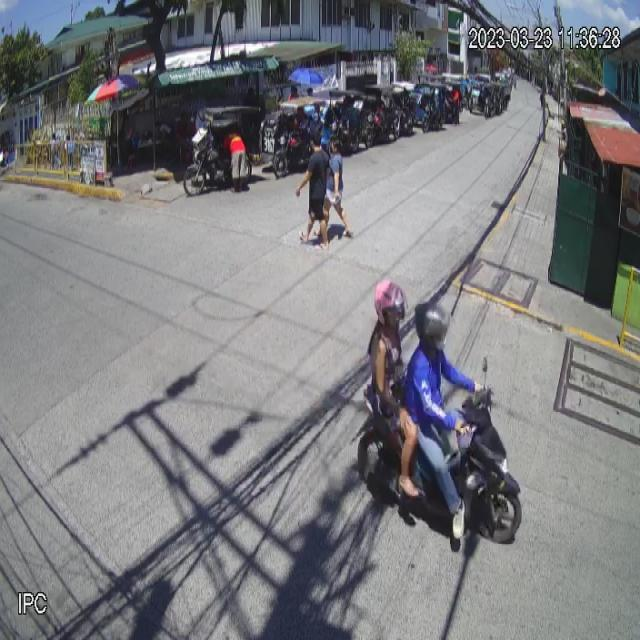Motorcycle: (354, 356, 522, 548)
